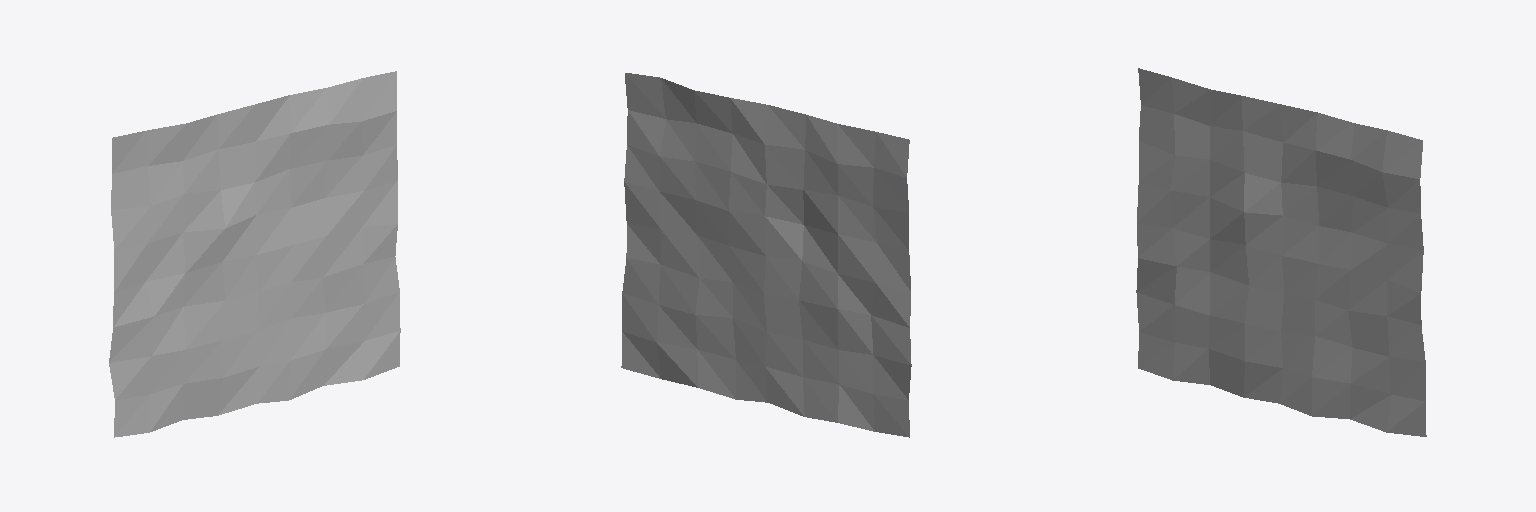
Rendered from beachSand.obj.
The picture shows the model from 3 angles: view 1: azimuth 30°, elevation 25°; view 2: azimuth 150°, elevation 25°; view 3: azimuth 330°, elevation 25°; orthographic projection.
Parts seen in each view (by area): view 1: boden_Plane.001; view 2: boden_Plane.001; view 3: boden_Plane.001.
Part boxes in pixels (x1,y1,x2,y2): boden_Plane.001: (109, 71, 400, 437); boden_Plane.001: (621, 73, 911, 437); boden_Plane.001: (1136, 68, 1426, 436).
Size of the model in its own units: 10.17 by 10.17 by 0.3064.